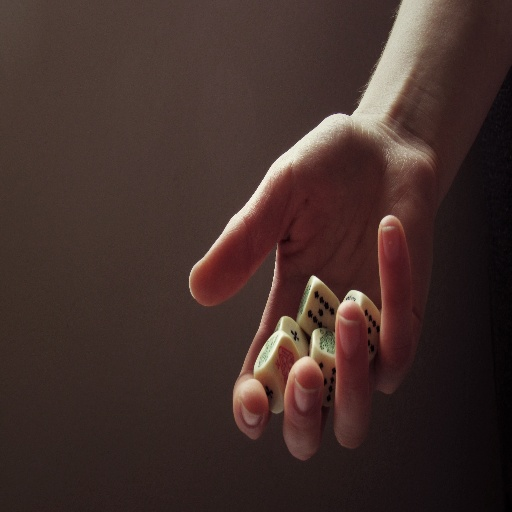hand: (185, 112, 436, 467)
